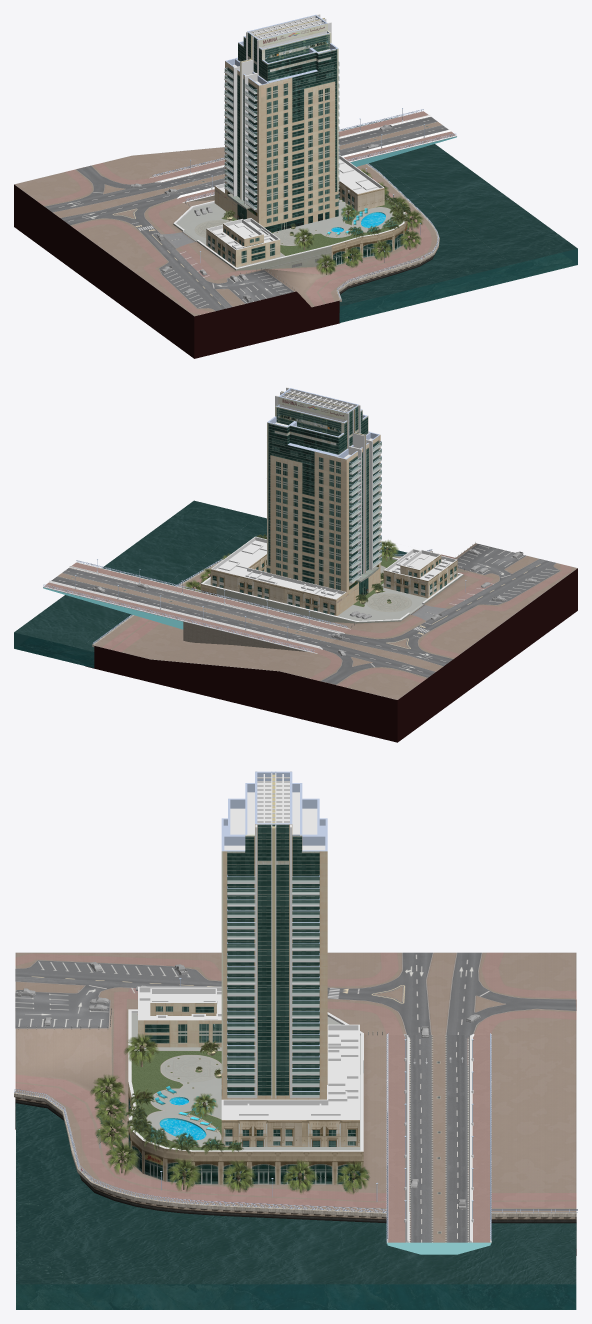
The picture shows the model from 3 angles, top to bottom: view 1: azimuth 30°, elevation 25°; view 2: azimuth 150°, elevation 25°; view 3: azimuth 270°, elevation 25°; orthographic projection. The views are drawn at different scales.
Parts seen in each view (by area): view 1: Plane010_Material #15_0, Plane012, Object006q_ttt_0, Object004_Material #30_0, Plane035, Box001, Box030, Box002_BETON_0, Box002_CTECLO_0, Cylinder001_BETON_0, Object003_Material #16_0, Object006q_METALL_0 (+2 smaller); view 2: Plane010_Material #15_0, Object004_Material #30_0, Object006q_ttt_0, Plane012, Box001, Box030, Box002_BETON_0, Plane035, Cylinder001_BETON_0, Cylinder001_METALL_0, Box002_CTECLO_0, Object006q_METALL_0 (+1 smaller); view 3: Plane010_Material #15_0, Plane012, Object006q_ttt_0, Box001, Plane035, Box030, Box002_BETON_0, Box002_CTECLO_0, Object003_Material #16_0, Object006q_BETON_0, Object006q_METALL_0, Cylinder001_BETON_0 (+14 smaller).
Boxes of the visible parts, box(x1,y1,x2,y2) form: Plane010_Material #15_0: box(14, 147, 437, 316); Plane012: box(291, 117, 577, 322); Object006q_ttt_0: box(225, 23, 338, 232); Object004_Material #30_0: box(14, 184, 339, 358); Plane035: box(173, 197, 407, 270); Box001: box(151, 111, 456, 201); Box030: box(206, 155, 384, 267); Box002_BETON_0: box(224, 14, 339, 209); Box002_CTECLO_0: box(224, 62, 339, 208); Cylinder001_BETON_0: box(150, 111, 456, 202); Object003_Material #16_0: box(336, 164, 439, 322); Object006q_METALL_0: box(225, 14, 338, 85); Plane010_Material #15_0: box(94, 543, 577, 699); Object004_Material #30_0: box(85, 568, 577, 742); Object006q_ttt_0: box(267, 397, 380, 608); Plane012: box(14, 500, 407, 667); Box001: box(43, 562, 349, 652); Box030: box(210, 536, 457, 615); Box002_BETON_0: box(275, 387, 381, 583); Plane035: box(200, 555, 463, 623); Cylinder001_BETON_0: box(43, 562, 350, 653); Cylinder001_METALL_0: box(43, 559, 347, 652); Box002_CTECLO_0: box(349, 441, 381, 582); Object006q_METALL_0: box(267, 388, 379, 459); Plane010_Material #15_0: box(15, 952, 576, 1212); Plane012: box(16, 1099, 576, 1309); Object006q_ttt_0: box(221, 824, 327, 1099); Box001: box(387, 1035, 491, 1254); Plane035: box(128, 1009, 363, 1184); Box030: box(138, 986, 359, 1146); Box002_BETON_0: box(227, 771, 319, 1098); Box002_CTECLO_0: box(227, 877, 319, 1096); Object003_Material #16_0: box(14, 1092, 576, 1248); Object006q_BETON_0: box(224, 782, 325, 850); Object006q_METALL_0: box(221, 771, 327, 851); Cylinder001_BETON_0: box(386, 1034, 491, 1243).
Bounding box in the file's own units: 187 × 106 × 153.
27 materials, 15 textured.
